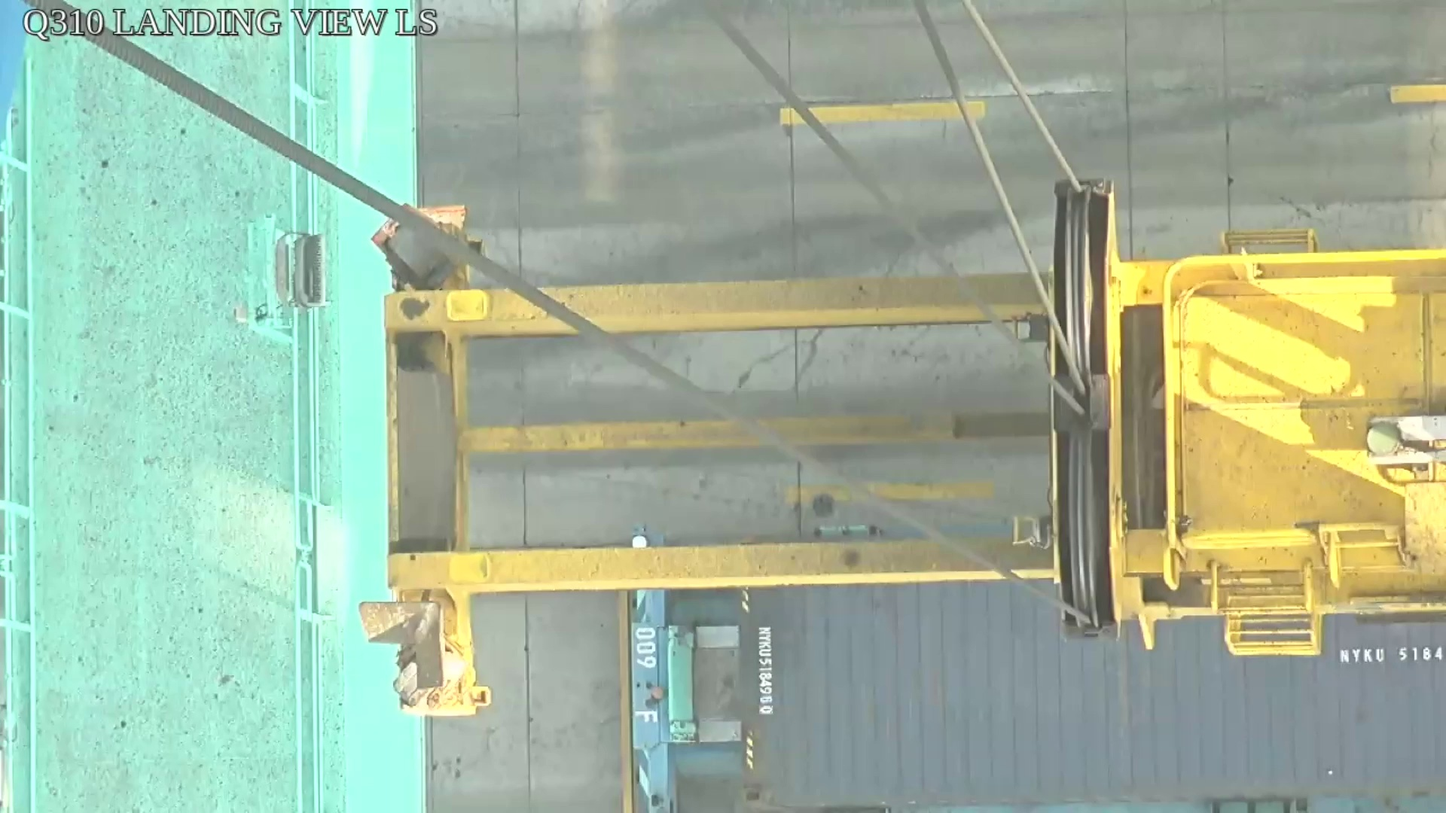aa: (1046, 180, 1127, 644)
